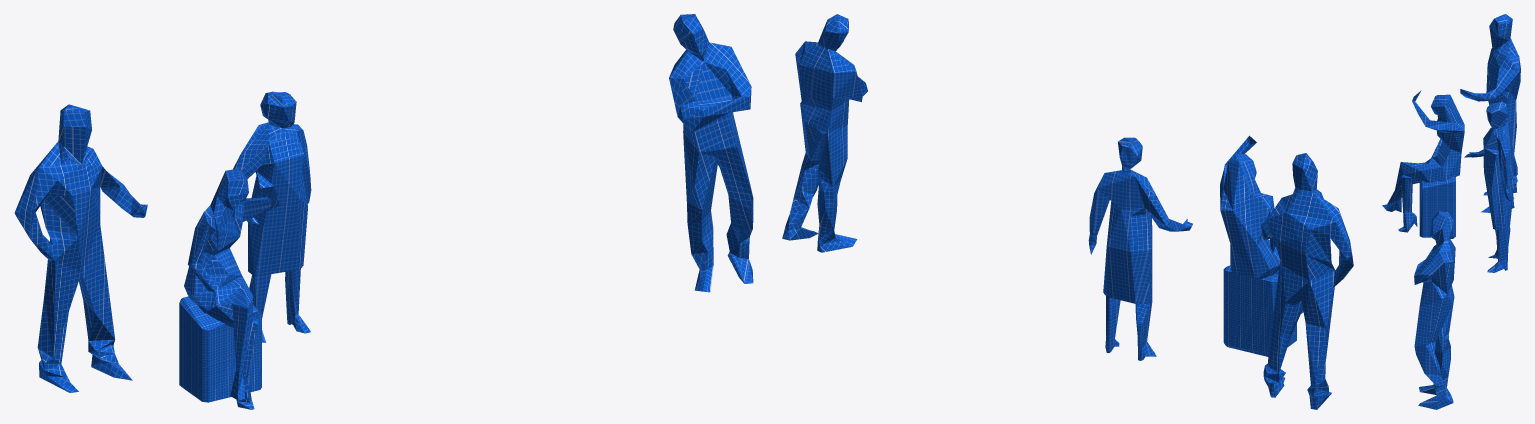
The model's file is connection.glb.
3 renders of one model, left to right at view 1: azimuth 30°, elevation 25°; view 2: azimuth 150°, elevation 25°; view 3: azimuth 270°, elevation 25°, orthographic. The views are drawn at different scales.
Visible parts, largest first — view 1: Man09, Man07, Woman07, Woman02, Box1; view 2: Man09, Man07, Woman07, Woman02, Box1; view 3: Man07, Woman02, Woman07, Man09, Box1.
Boxes of the visible parts, x1,y1,x2,y2 form: Man09: (14,104,147,392); Man07: (669,14,753,292); Woman07: (233,91,311,342); Woman02: (184,169,279,409); Box1: (179,296,261,402); Man09: (1261,153,1353,409); Man07: (782,14,867,252); Woman07: (1088,137,1192,360); Woman02: (1220,135,1303,313); Box1: (1223,265,1296,356); Man07: (1414,211,1455,409); Woman02: (1382,90,1464,232); Woman07: (1464,101,1514,272); Man09: (1460,14,1520,212); Box1: (1419,176,1455,238).
Bounding box in the file's own units: 4.36 × 1.71 × 1.14.
1 material, 1 textured.
